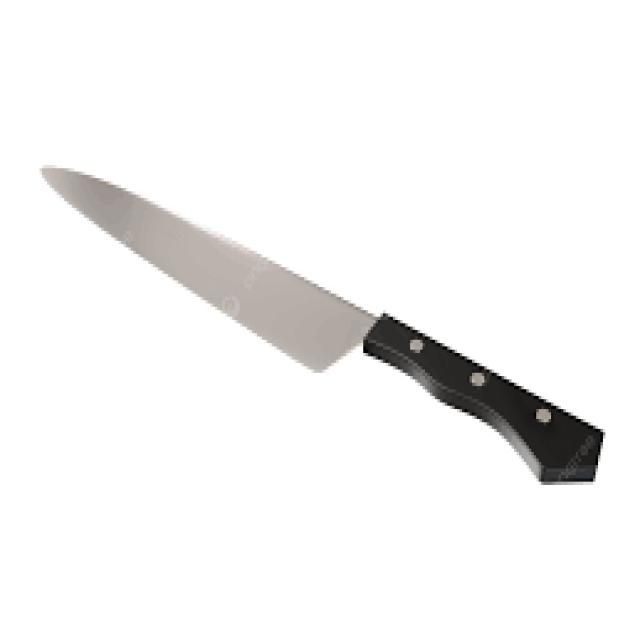Knife: (37, 162, 605, 485)
